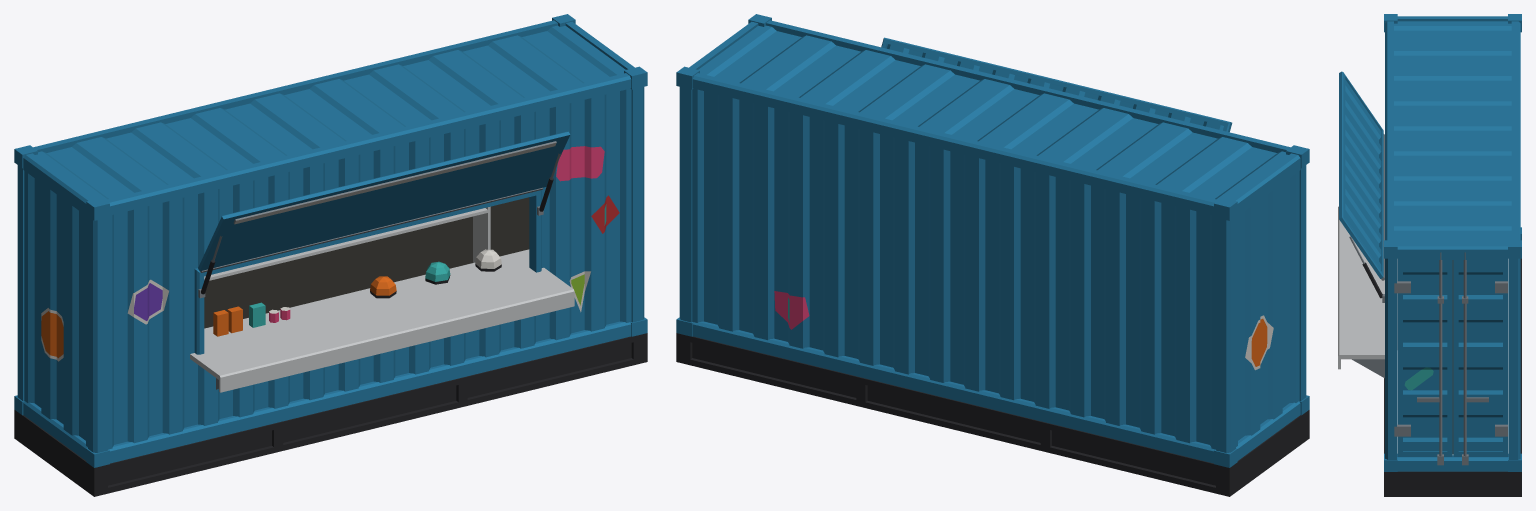
The model's file is container-snack-kiosk-7036e5.glb.
3 renders of one model, left to right at view 1: azimuth 30°, elevation 25°; view 2: azimuth 150°, elevation 25°; view 3: azimuth 270°, elevation 25°, orthographic. The views are drawn at different scales.
Visible parts, largest first — view 1: kiosk, flap-mesh; view 2: kiosk, flap-mesh; view 3: kiosk, door-front-mesh, door-back-mesh, flap-mesh.
Part boxes in pixels (x1,y1,x2,y2): kiosk: (14, 14, 647, 496); flap-mesh: (198, 131, 570, 294); kiosk: (676, 14, 1309, 496); flap-mesh: (881, 37, 1232, 132); kiosk: (1338, 14, 1521, 496); door-front-mesh: (1394, 252, 1452, 456); door-back-mesh: (1453, 252, 1508, 456); flap-mesh: (1339, 71, 1384, 298).
Size of the model in its own units: 6 by 3 by 2.
